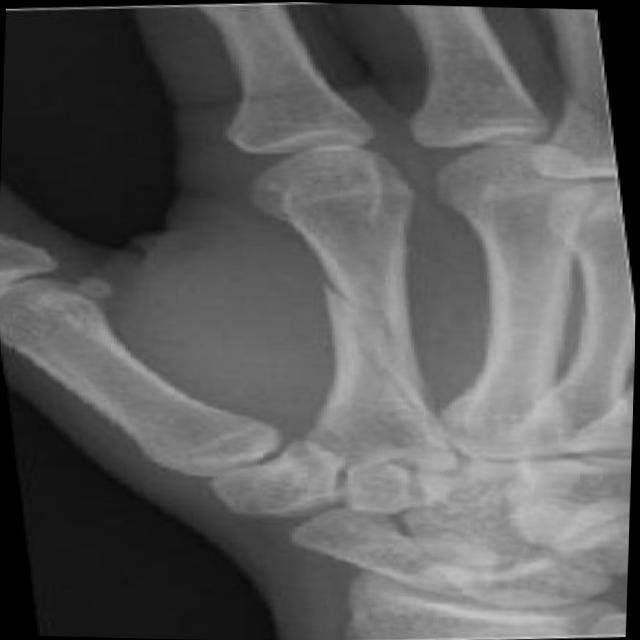Oblique Displaced: (292, 268, 457, 408)
